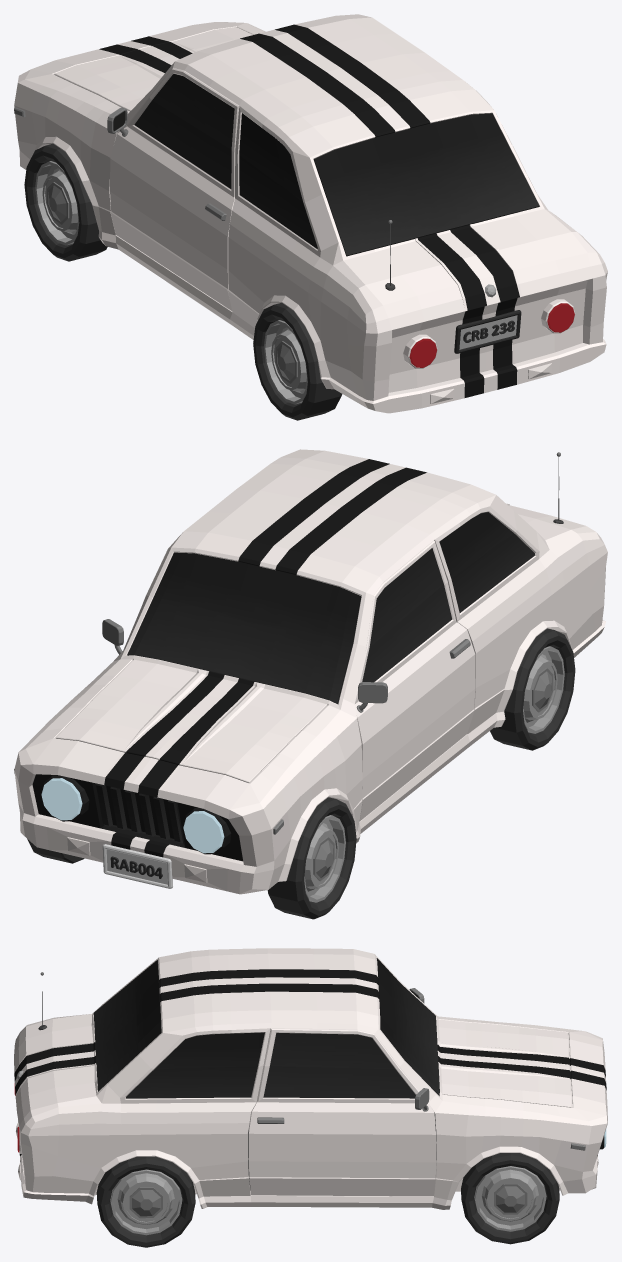
The model's file is car_4.glb.
3 renders of one model, top to bottom at view 1: azimuth 30°, elevation 25°; view 2: azimuth 150°, elevation 25°; view 3: azimuth 270°, elevation 25°, orthographic. The views are drawn at different scales.
Parts seen in each view (by area): view 1: Plane.018, Plane.019, Plane.008, Circle.033, Circle.029, Circle.032, Plane.017; view 2: Plane.018, Plane.021, Plane.019, Circle.029, Circle.033, Circle.030, Plane.006, RAB004, Plane.007; view 3: Plane.018, Plane.019, Circle.027, Circle.028, Plane.008, Plane.021.
Part boxes in pixels (left/top/right/bottom): Plane.018: left=14, top=14, right=607, bottom=413; Plane.019: left=110, top=68, right=239, bottom=310; Plane.008: left=313, top=113, right=539, bottom=256; Circle.033: left=253, top=303, right=342, bottom=420; Circle.029: left=24, top=143, right=107, bottom=261; Circle.032: left=403, top=299, right=575, bottom=368; Plane.017: left=454, top=310, right=521, bottom=353; Plane.018: left=14, top=449, right=607, bottom=894; Plane.021: left=127, top=552, right=361, bottom=704; Plane.019: left=144, top=537, right=475, bottom=821; Circle.029: left=267, top=797, right=356, bottom=919; Circle.033: left=490, top=628, right=575, bottom=750; Circle.030: left=40, top=775, right=231, bottom=854; Plane.006: left=96, top=783, right=182, bottom=843; RAB004: left=102, top=844, right=172, bottom=888; Plane.007: left=102, top=619, right=387, bottom=712; Plane.018: left=14, top=948, right=607, bottom=1209; Plane.019: left=248, top=1028, right=436, bottom=1196; Circle.027: left=96, top=1156, right=195, bottom=1247; Circle.028: left=461, top=1153, right=559, bottom=1244; Plane.008: left=93, top=960, right=161, bottom=1091; Plane.021: left=376, top=958, right=439, bottom=1095.
Size of the model in its own units: 1.12 by 1 by 2.52.
5 materials, 4 textured.
